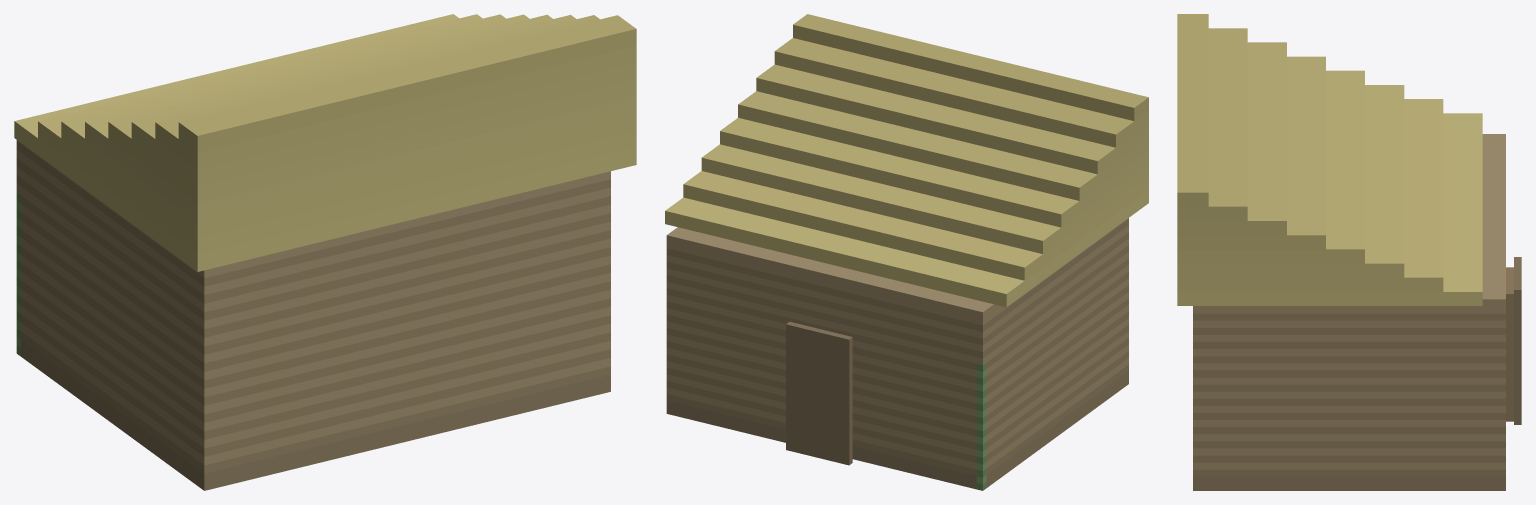
File: carromato_mercader_03.glb
The picture shows the model from 3 angles, left to right: view 1: azimuth 30°, elevation 25°; view 2: azimuth 150°, elevation 25°; view 3: azimuth 270°, elevation 25°; orthographic projection. The views are drawn at different scales.
Parts seen in each view (by area): view 1: carromato_mercader_03; view 2: carromato_mercader_03; view 3: carromato_mercader_03.
Part boxes in pixels (x1,y1,x2,y2): carromato_mercader_03: [14, 14, 636, 490]; carromato_mercader_03: [665, 14, 1148, 490]; carromato_mercader_03: [1177, 14, 1521, 490].
Size of the model in its own units: 5.4 by 4.3 by 4.4.
